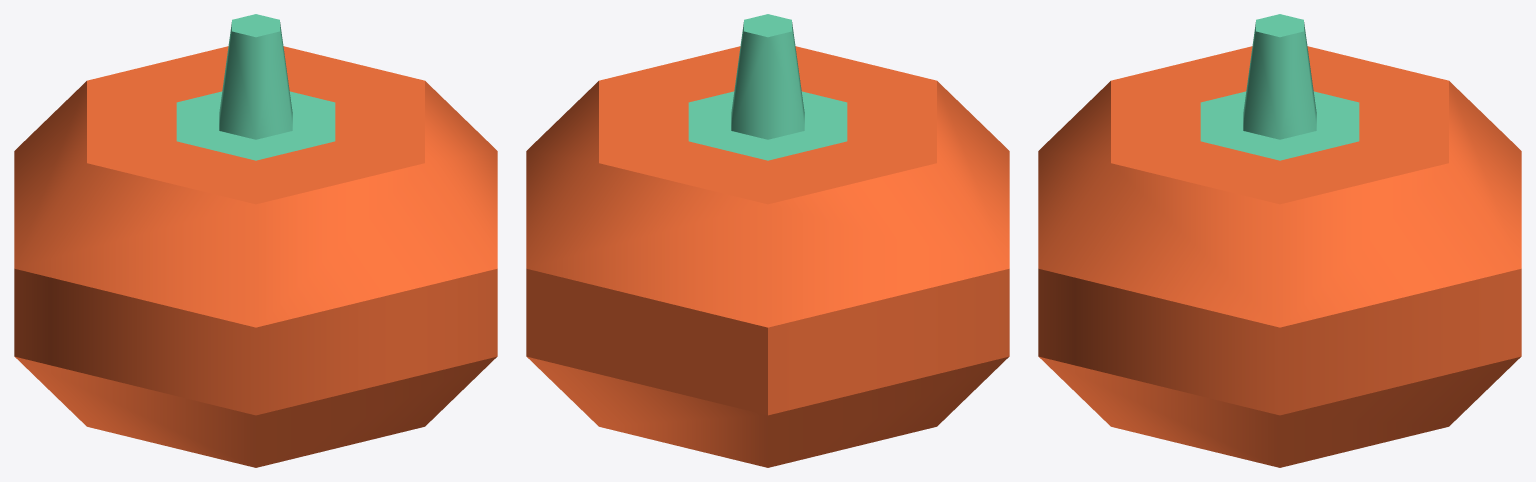
Rendered from Pumpkin_Basic.glb.
The picture shows the model from 3 angles, left to right: view 1: azimuth 30°, elevation 25°; view 2: azimuth 150°, elevation 25°; view 3: azimuth 270°, elevation 25°; orthographic projection.
Visible parts, largest first — view 1: pumpkinBasic; view 2: pumpkinBasic; view 3: pumpkinBasic.
Boxes of the visible parts, x1,y1,x2,y2 form: pumpkinBasic: (14, 14, 497, 467); pumpkinBasic: (526, 14, 1009, 467); pumpkinBasic: (1038, 14, 1521, 467).
Bounding box in the file's own units: 0.42 × 0.299 × 0.3637.
